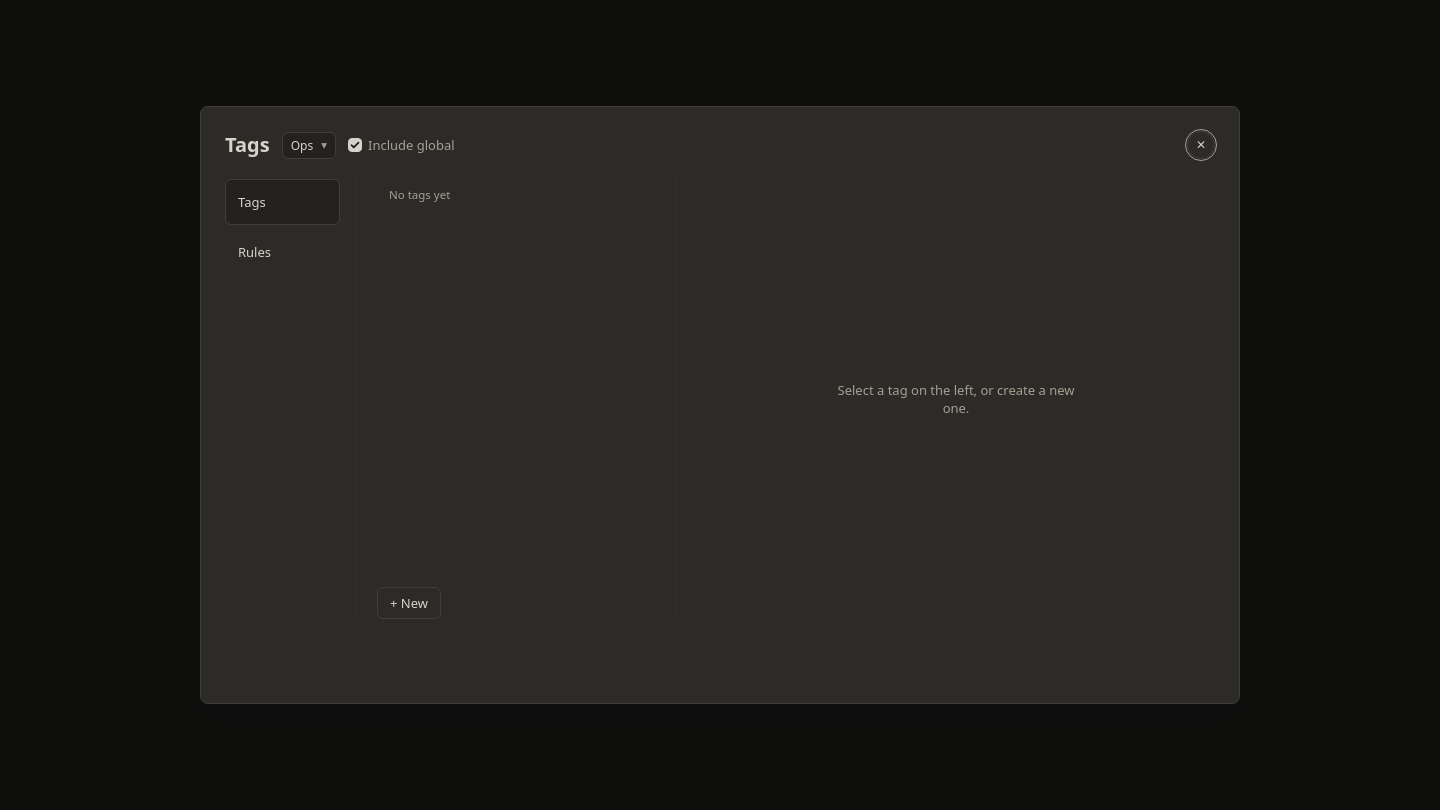
TagsDialog — a page switch closes what was open (final review 4a) › + New on Tags, then Rules: the Rules page shows its placeholder, never an empty form
This screenshot has width=1440, height=810.
Click the button with test id "tag-new": (409, 603) [377,587,441,619]
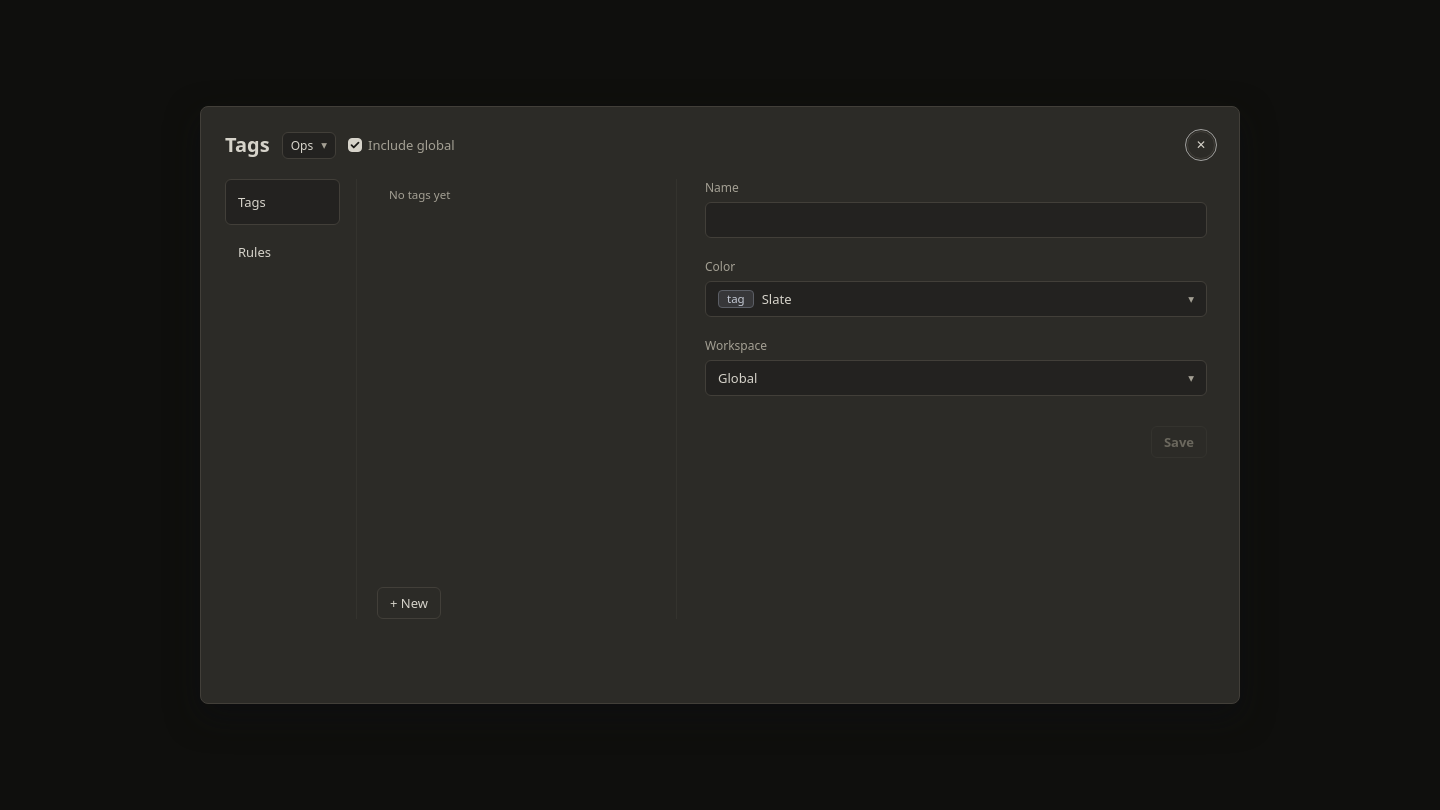
Check: the field with test id "tag-name" is shown, box [705,202,1207,238]
Click the button with test id "tags-page-rules": (282, 252) [226,230,339,274]
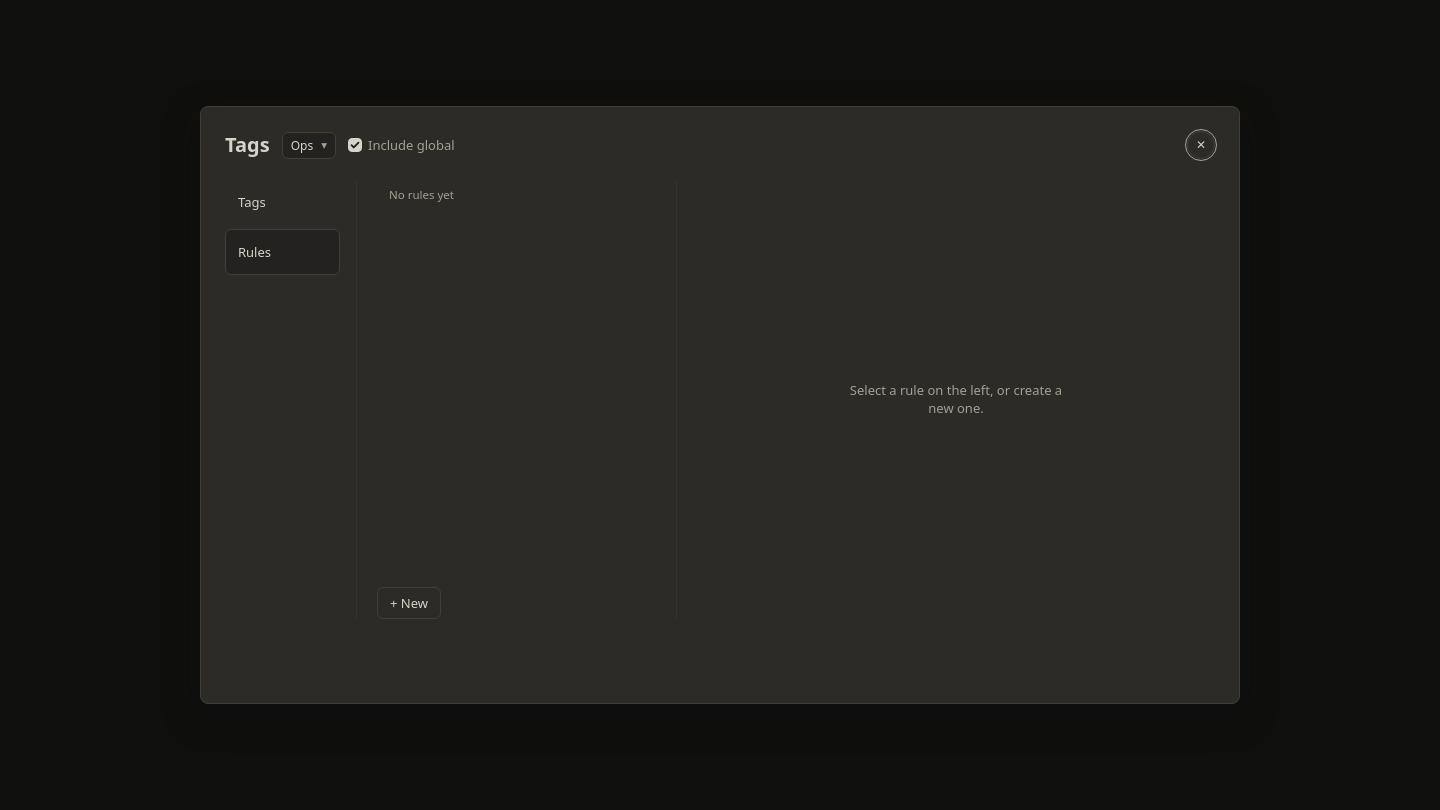
Check: the element with test id "rule-placeholder" is shown, box [850,381,1062,417]
